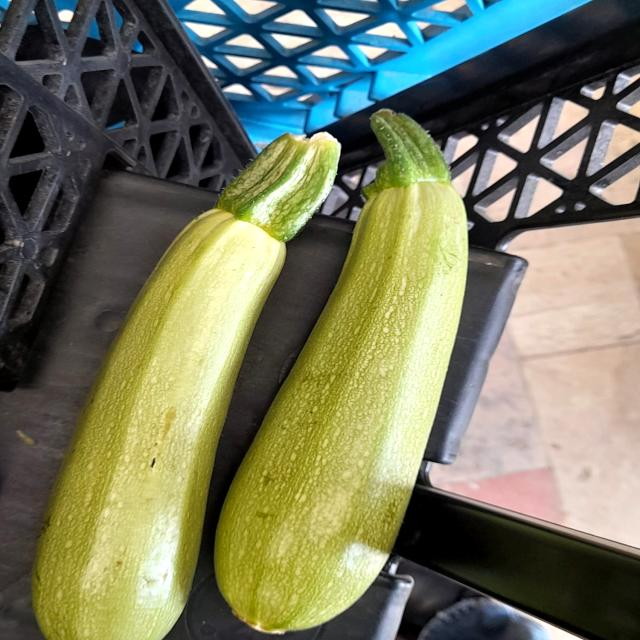zucchini: (17, 115, 351, 640), (206, 100, 482, 640)
